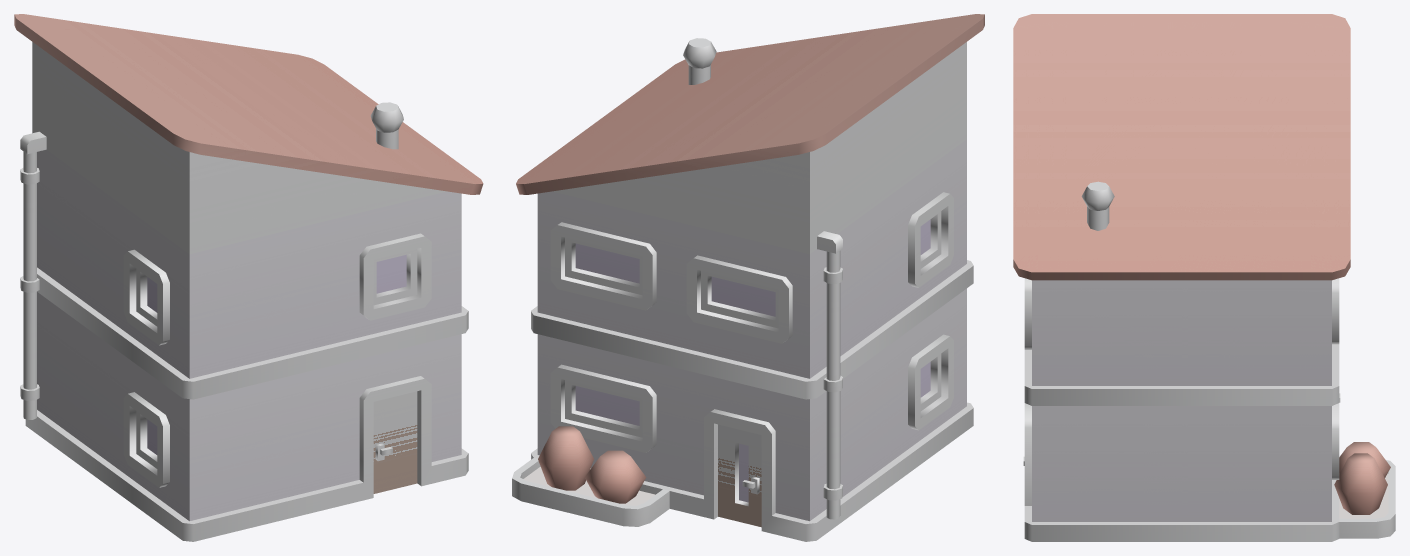
The model's file is suburban-building-type-k.glb.
3 renders of one model, left to right at view 1: azimuth 30°, elevation 25°; view 2: azimuth 150°, elevation 25°; view 3: azimuth 270°, elevation 25°, orthographic. The views are drawn at different scales.
Visible parts, largest first — view 1: building-type-k; view 2: building-type-k; view 3: building-type-k.
Boxes of the visible parts, bbox=[...] form: building-type-k: bbox=[14, 14, 483, 541]; building-type-k: bbox=[512, 14, 984, 541]; building-type-k: bbox=[1013, 14, 1395, 541].
Bounding box in the file's own units: 0.9209 × 1.15 × 1.02.
1 material, 1 textured.
